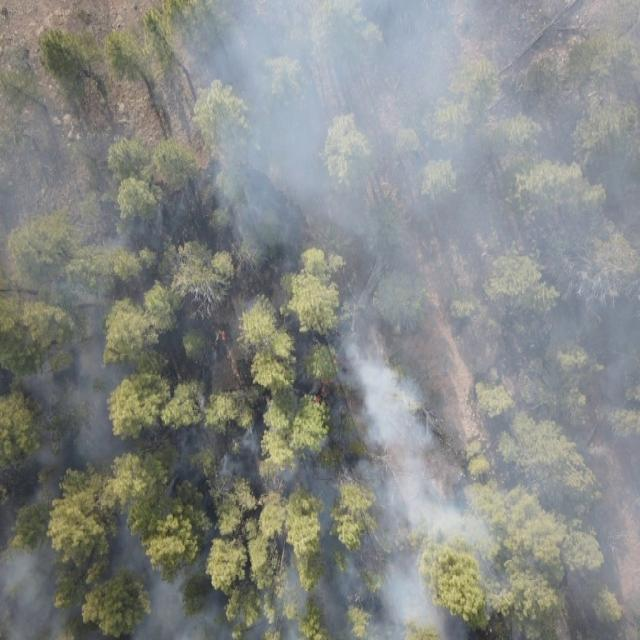fire: (313, 378, 339, 407), (210, 330, 229, 344), (332, 357, 340, 368)
smoke: (0, 0, 640, 640)
